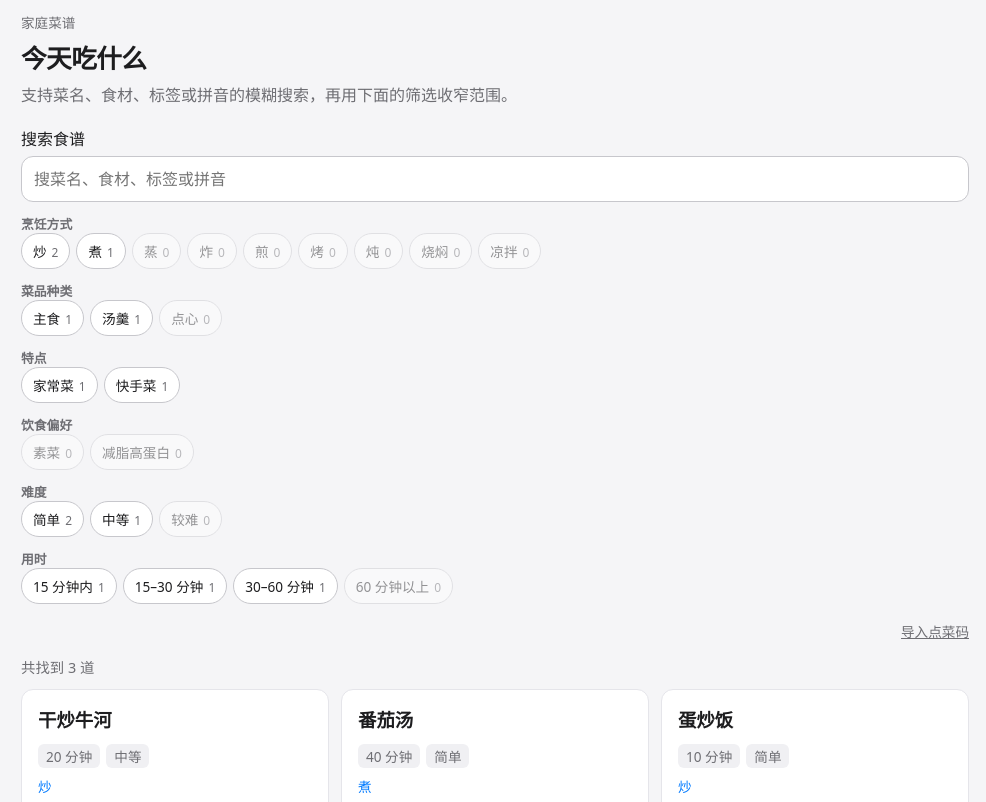
Test: RecipeBrowser › only combines within-dimension selections with OR and across dimensions with AND
The image size is (986, 802).
Click the button "炒2": {"x": 46, "y": 251} [21, 233, 70, 269]
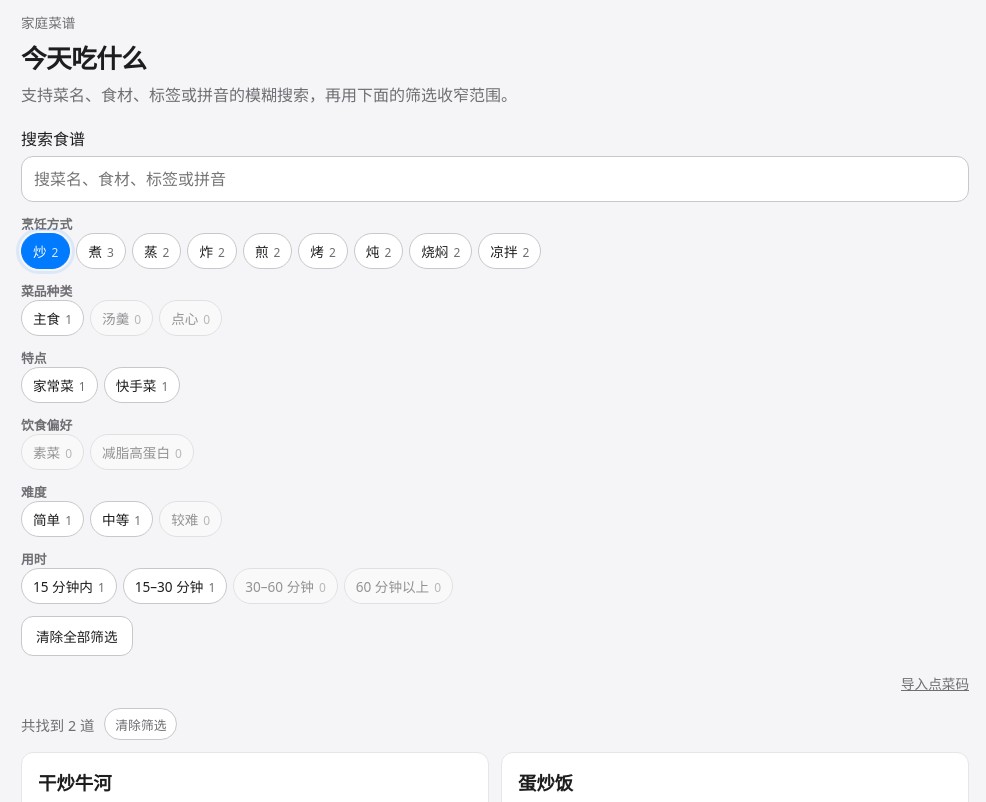
Click the button "煮3": {"x": 101, "y": 251} [76, 233, 126, 269]
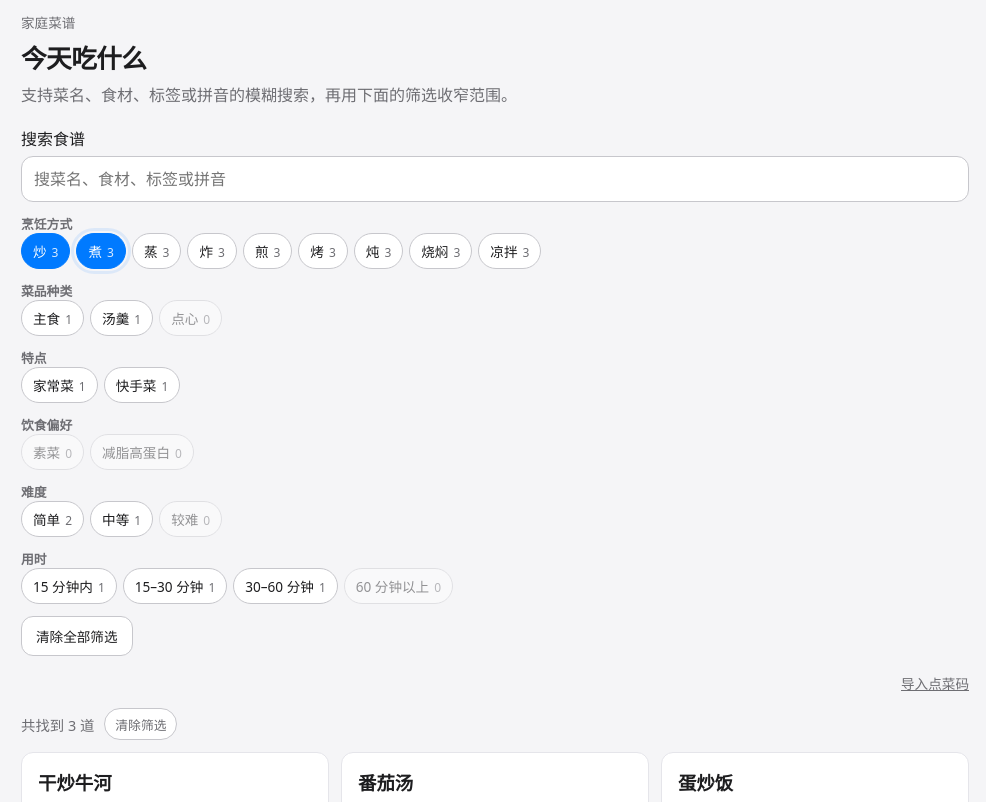
Expected: the heading "干炒牛河" is shown, [38, 770, 112, 795]
Result: the heading "番茄汤" is shown at [358, 770, 413, 795]
Click the button "主食1": {"x": 53, "y": 318} [21, 300, 84, 336]
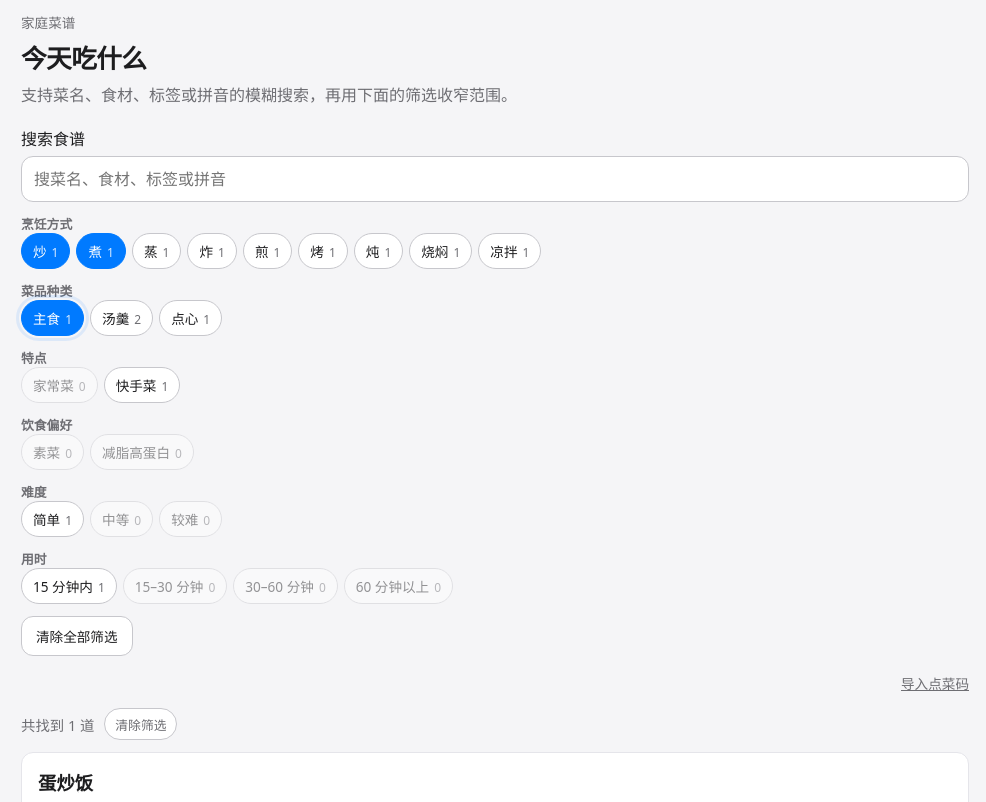
Expected: the heading "蛋炒饭" is shown, [38, 770, 93, 795]
Result: the link "干炒牛河" is gone
Result: the link "番茄汤" is gone
